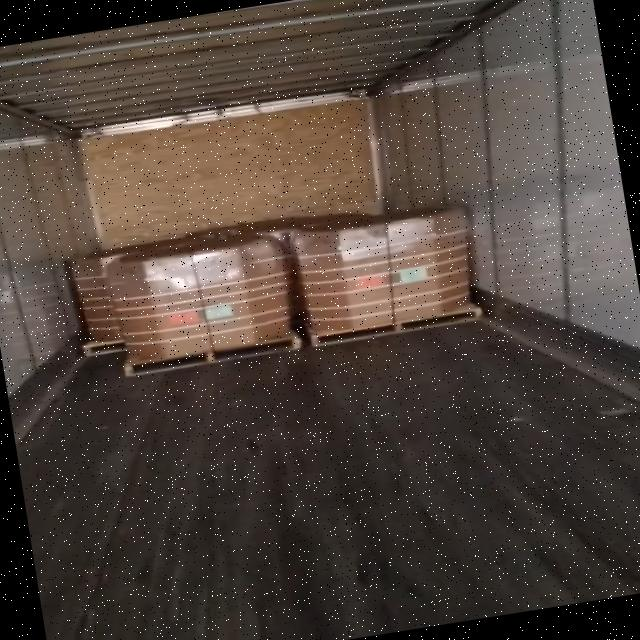pallet: (124, 338, 302, 376), (311, 308, 487, 346), (80, 334, 130, 360)
